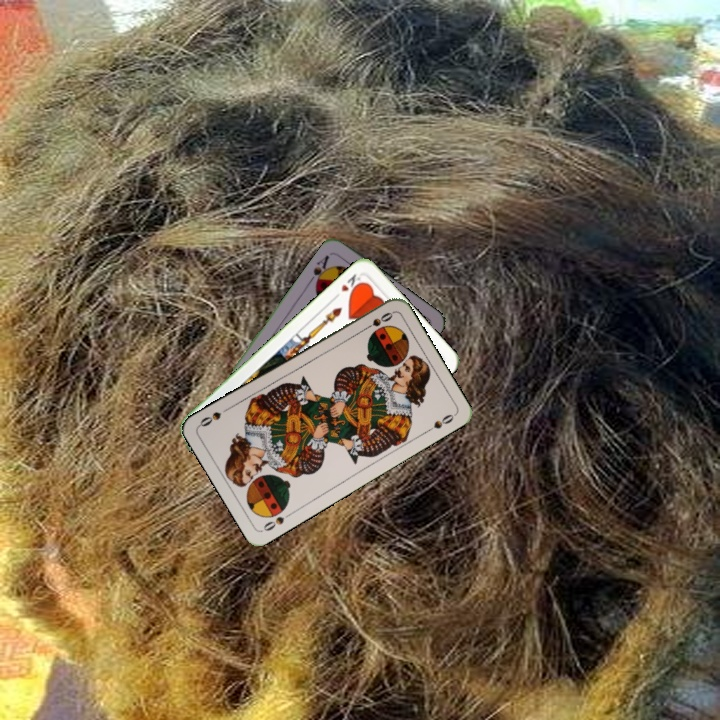HK: (330, 270, 365, 302)
SA: (305, 251, 334, 289)
SO: (358, 308, 396, 334), (259, 508, 296, 534)
